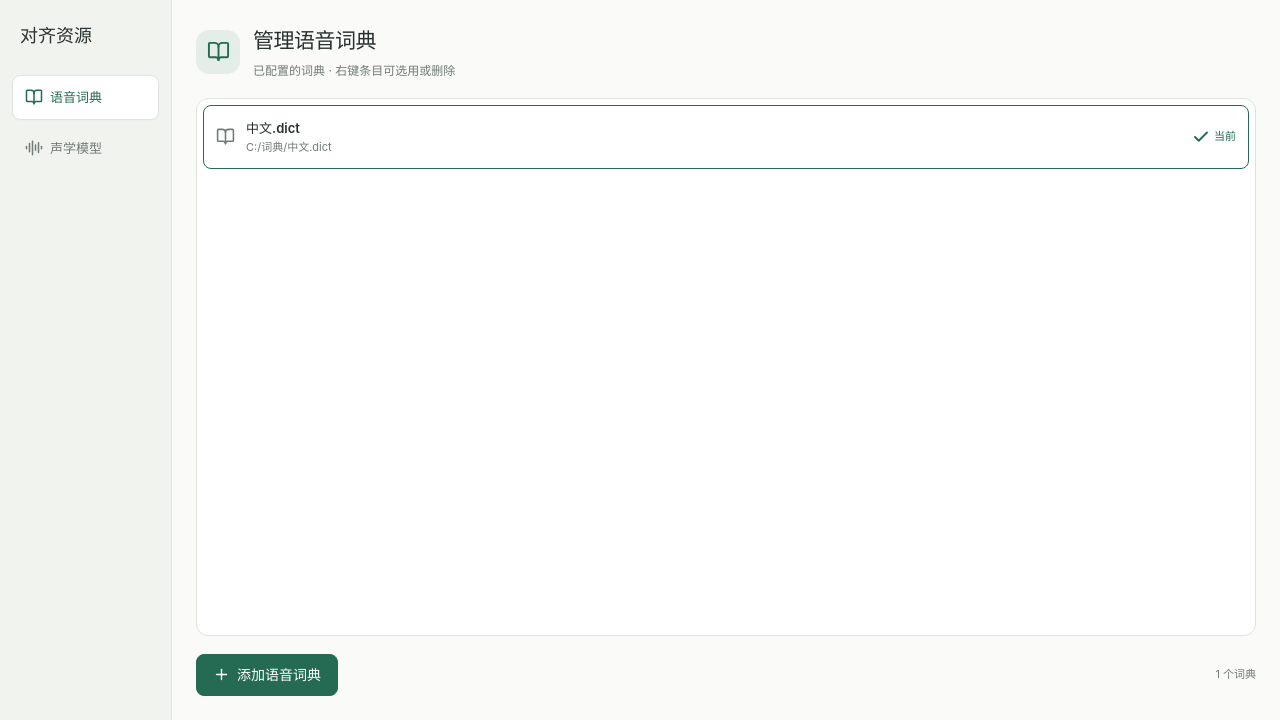
Test: shows picker errors and keeps the existing list
Expected: the text "中文.dict" is shown, top-left (246, 120), bottom-right (300, 136)
Click the button "添加语音词典" at (267, 675), box top-left (196, 654), bottom-right (338, 696)
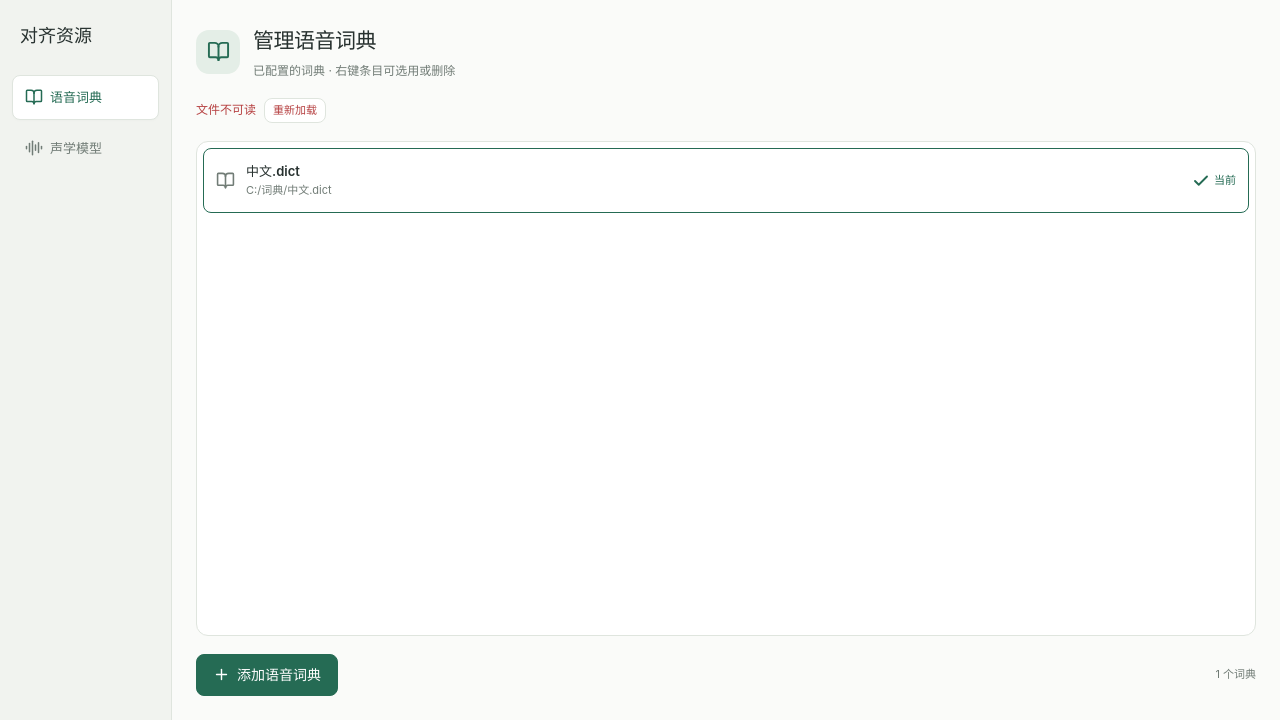
Expected: the text "中文.dict" is shown, top-left (246, 163), bottom-right (300, 179)
Expected: the message "文件不可读 重新加载" is shown, top-left (196, 98), bottom-right (326, 123)
